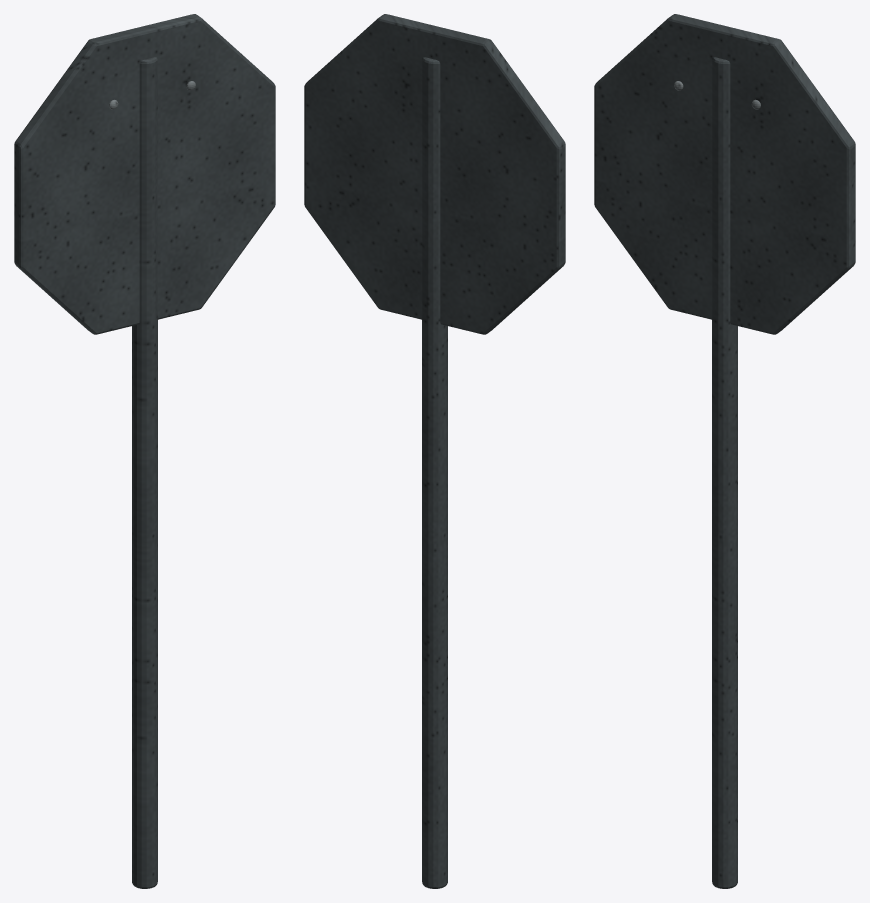
The model's file is PROP-3F00E4E46820_lod0.glb.
The picture shows the model from 3 angles, left to right: view 1: azimuth 30°, elevation 25°; view 2: azimuth 150°, elevation 25°; view 3: azimuth 330°, elevation 25°; orthographic projection.
Parts seen in each view (by area): view 1: shaped_sign_plate.008, sign_post.030; view 2: shaped_sign_plate.008, sign_post.030; view 3: shaped_sign_plate.008, sign_post.030.
Part boxes in pixels (x1,y1,x2,y2): shaped_sign_plate.008: (14,14,275,334); sign_post.030: (132,57,157,888); shaped_sign_plate.008: (304,14,565,334); sign_post.030: (422,57,447,888); shaped_sign_plate.008: (594,14,855,334); sign_post.030: (712,57,737,888).
Size of the model in its own units: 0.7927 by 2.53 by 0.083.
2 materials, 2 textured.
